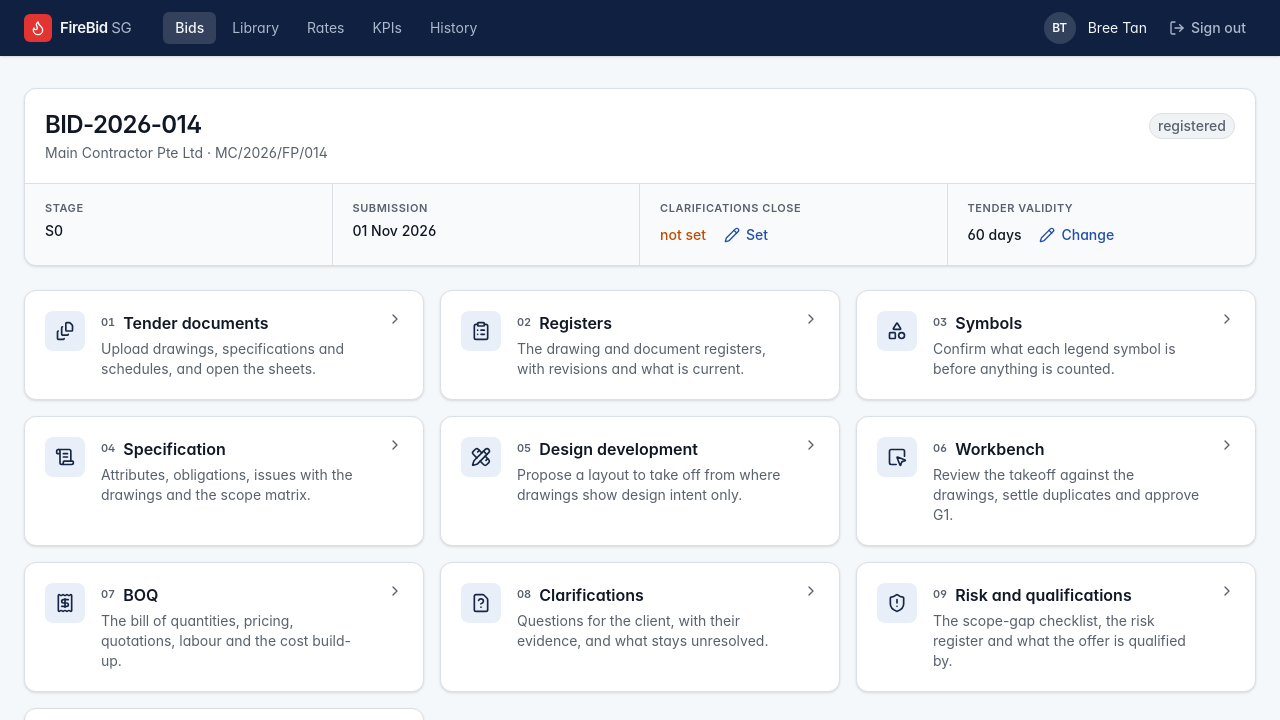
Scenario: a bid's page › shows why a change was refused, and keeps the form open
Step 1. Click the button with aria-label "Change tender validity" → (1077, 234), box [1030,220,1124,248]
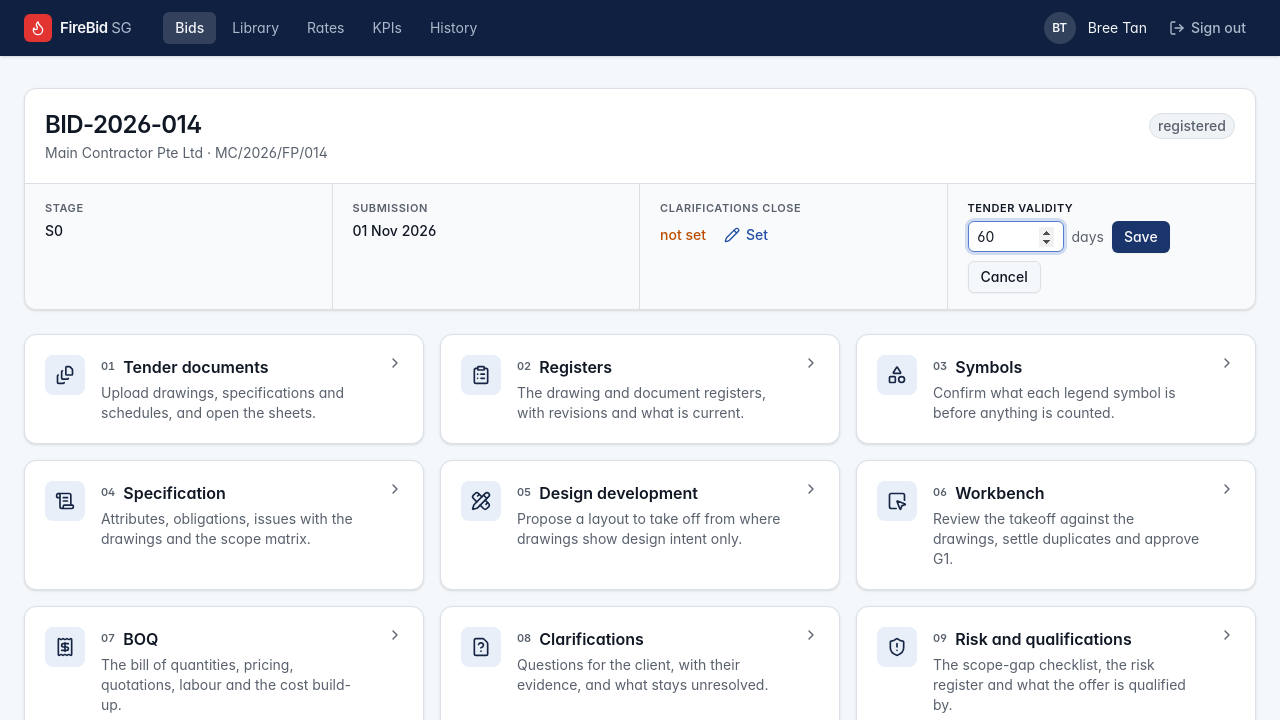
Check: the number field labelled "Tender validity" holds "60"
Step 2. Replace the text in the number field labelled "Tender validity" with "120" → (1016, 236), box [968,221,1064,252]
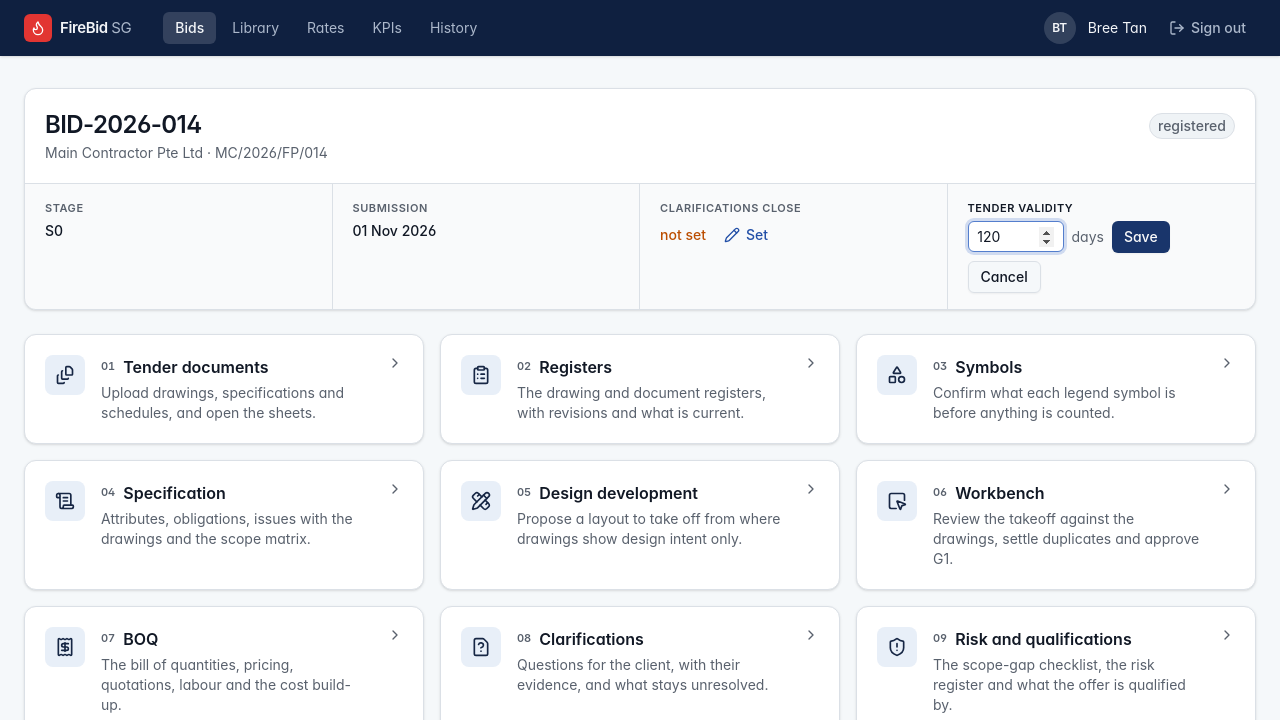
Step 3. Click the button "Save" → (1141, 236), box [1112,220,1170,252]
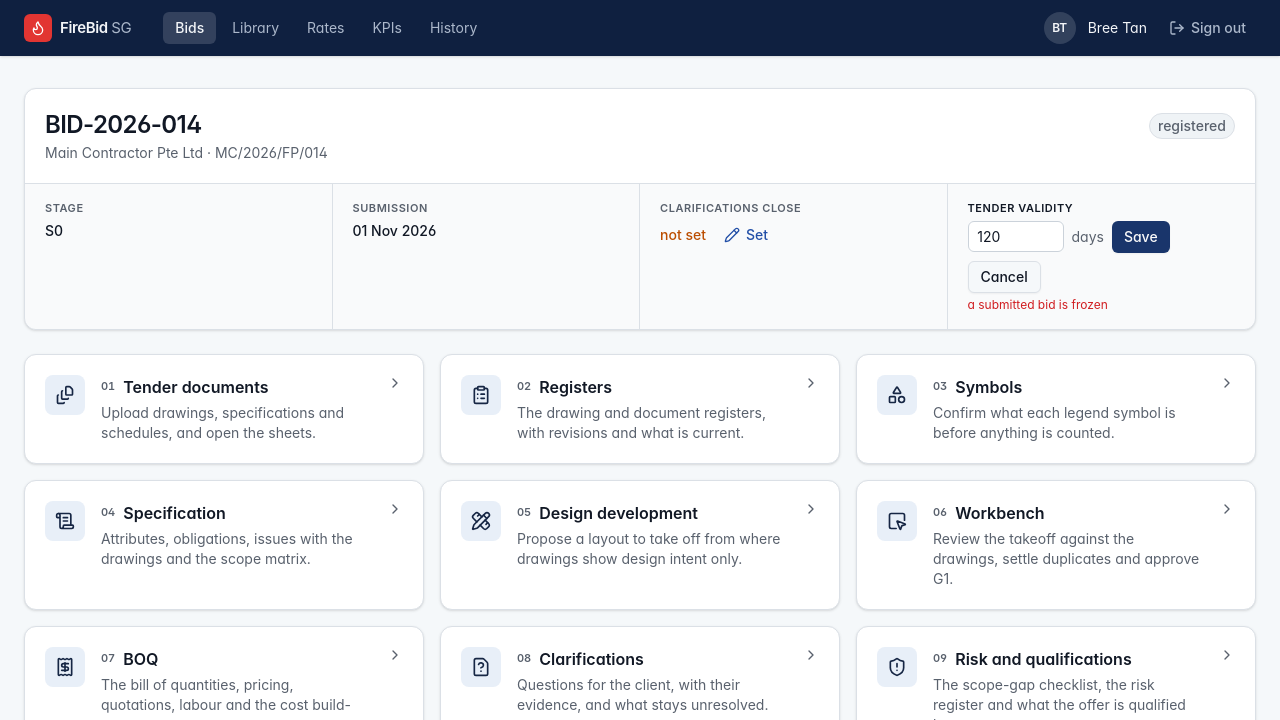
Check: the message reads "a submitted bid is frozen", box [968,296,1108,312]
